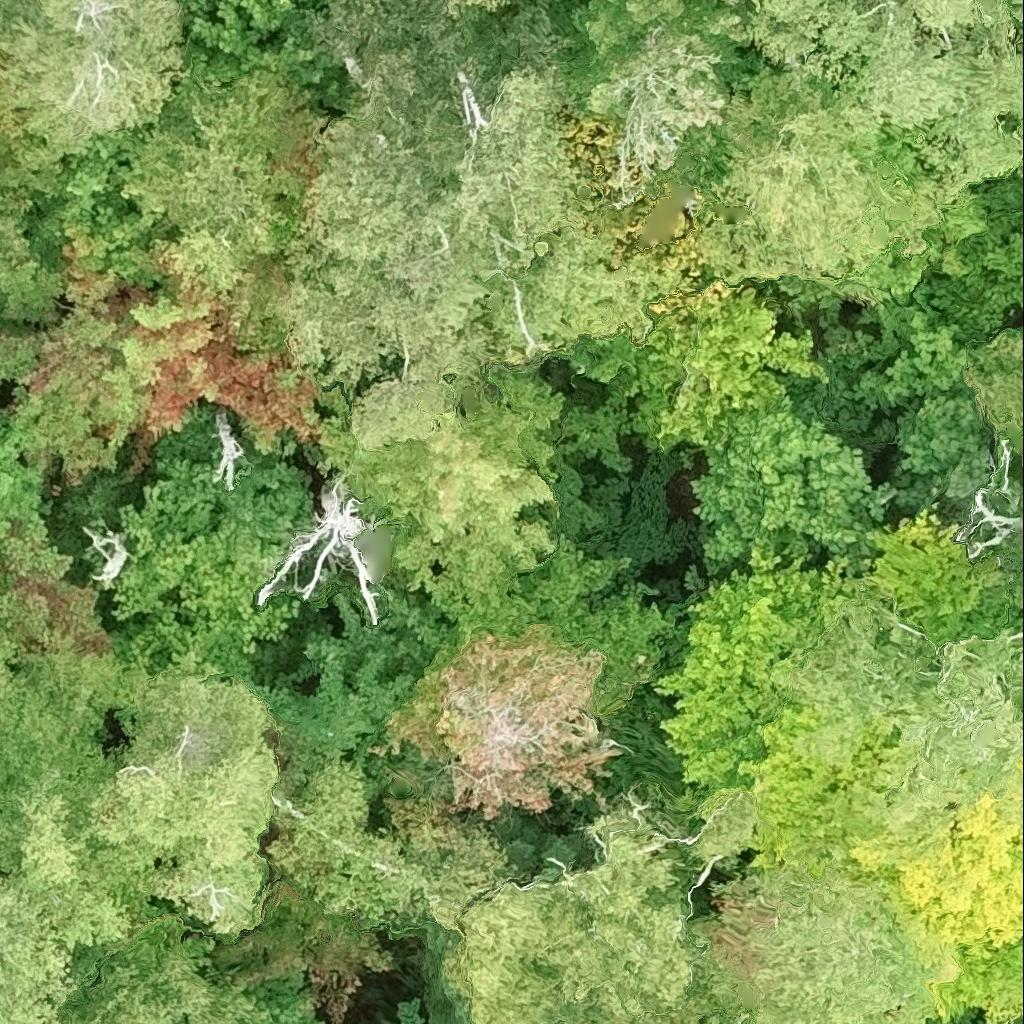crown: (287, 0, 679, 450), (89, 672, 511, 940), (448, 788, 762, 1023), (674, 70, 985, 299), (323, 371, 561, 620), (746, 0, 1023, 190), (378, 624, 624, 818), (653, 565, 861, 792), (111, 463, 317, 691), (567, 288, 830, 454), (550, 0, 748, 208), (846, 795, 1023, 1023), (706, 866, 941, 1023), (690, 403, 890, 577), (146, 86, 294, 300), (737, 705, 920, 878), (0, 0, 182, 164), (0, 787, 124, 1023), (262, 479, 378, 624), (0, 627, 62, 789), (951, 436, 1023, 557), (968, 332, 1023, 439), (0, 441, 35, 538), (444, 0, 509, 16), (1008, 0, 1023, 41), (1019, 39, 1023, 70), (1019, 759, 1023, 783), (735, 1017, 749, 1023), (1020, 126, 1023, 137), (1019, 511, 1023, 515)
